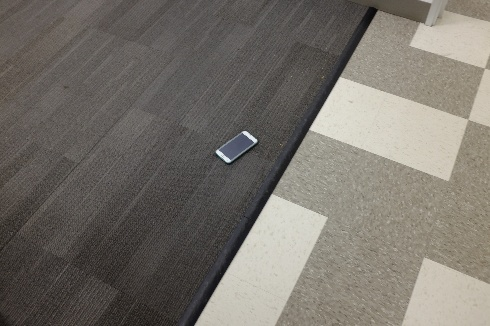phone: (213, 131, 262, 163)
